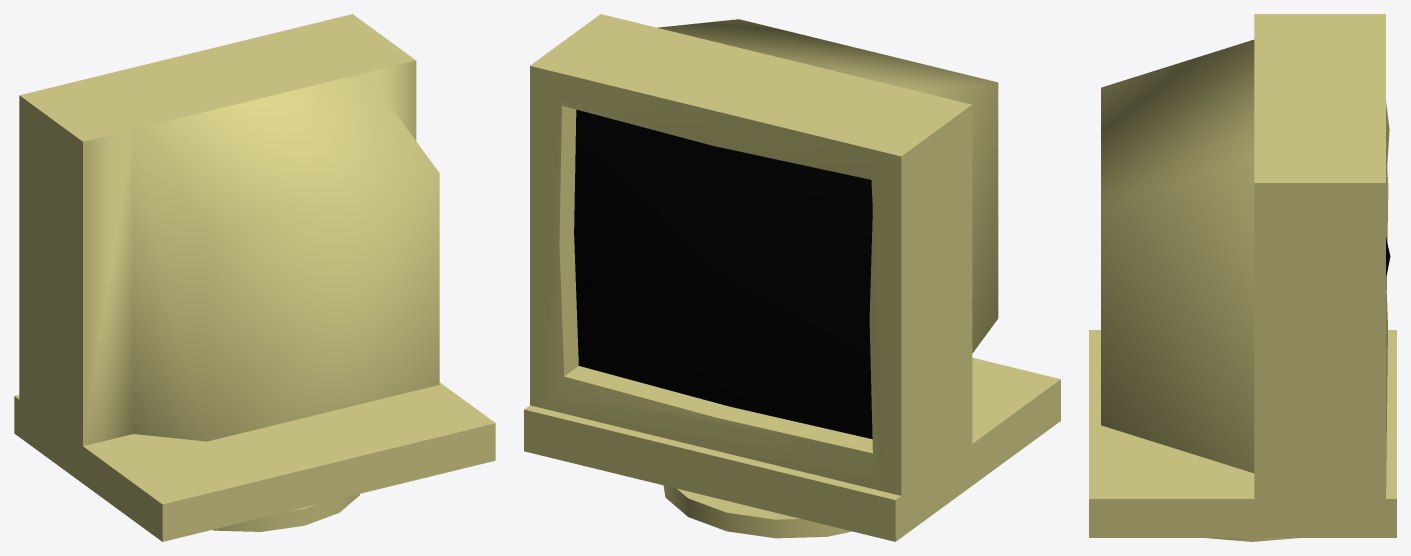
The model's file is office_monitor.fbx.
The picture shows the model from 3 angles, left to right: view 1: azimuth 30°, elevation 25°; view 2: azimuth 150°, elevation 25°; view 3: azimuth 270°, elevation 25°; orthographic projection. The views are drawn at different scales.
Parts seen in each view (by area): view 1: monitor, stand; view 2: monitor, stand; view 3: monitor.
Part boxes in pixels (x1,y1,x2,y2): monitor: (14, 14, 495, 541); stand: (212, 494, 359, 531); monitor: (524, 14, 1060, 541); stand: (663, 485, 852, 538); monitor: (1089, 14, 1396, 537).
Size of the model in its own units: 51.91 by 56.5 by 40.01.
